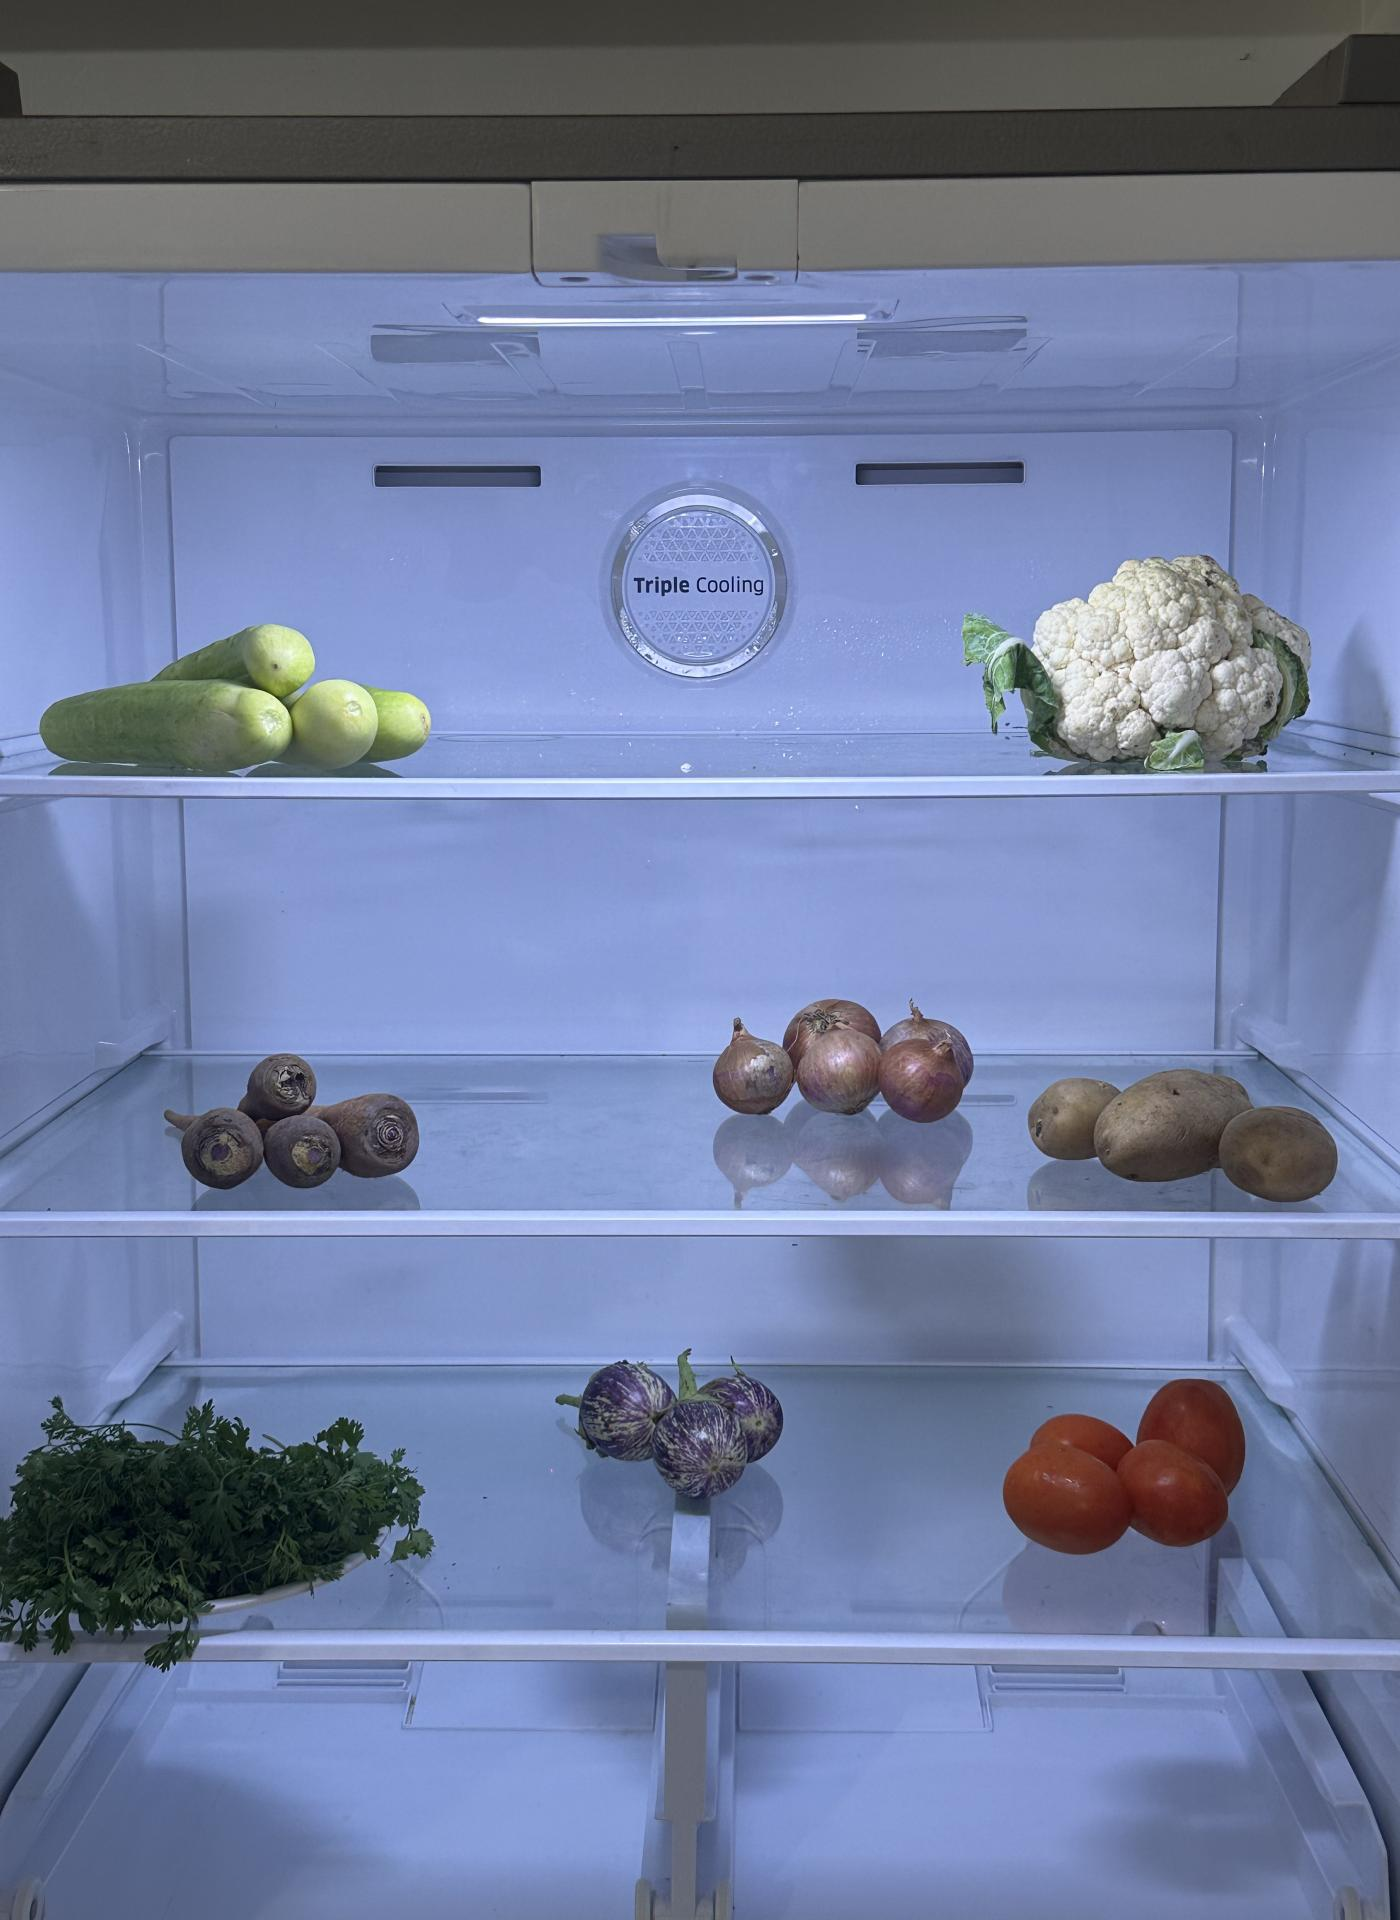brinjal: (589, 1358, 781, 1498)
carrots: (171, 1040, 428, 1188)
cauliflower: (1023, 547, 1321, 763)
coriander: (0, 1403, 420, 1632)
cucumber: (37, 626, 435, 803)
onion: (713, 993, 983, 1122)
potato: (1030, 1054, 1343, 1196)
tomato: (997, 1376, 1248, 1558)
